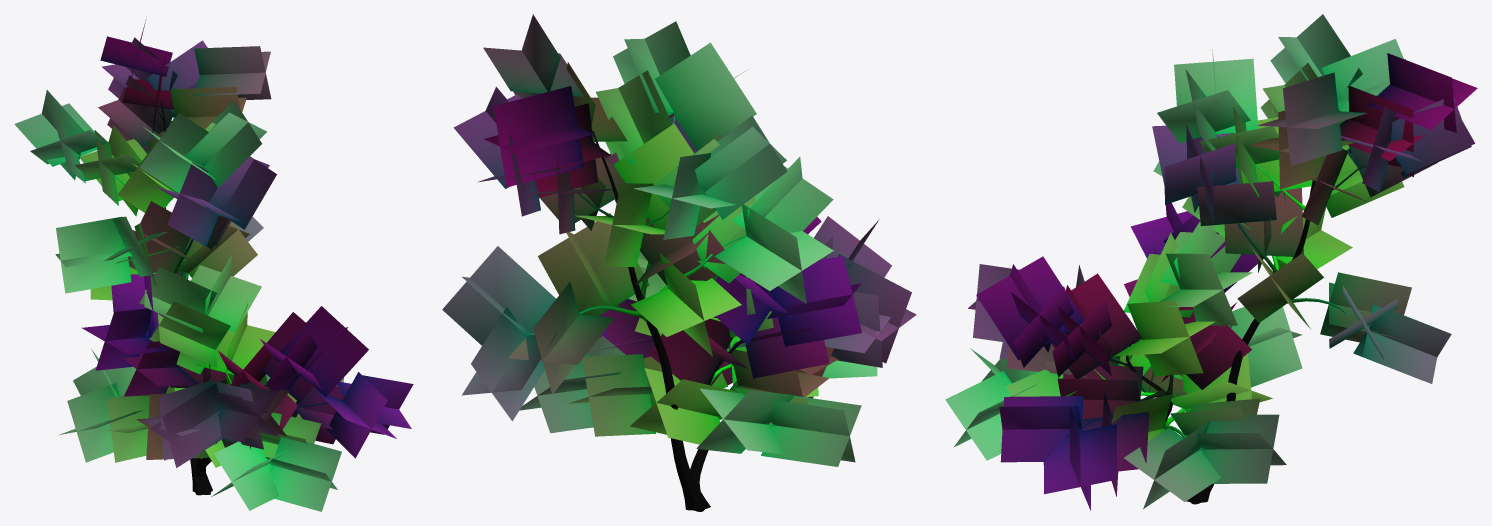
File: M_P3_Tree_5.fbx
3 views of the same model, side by side, from view 1: azimuth 30°, elevation 25°; view 2: azimuth 150°, elevation 25°; view 3: azimuth 270°, elevation 25° (orthographic). The views are drawn at different scales.
Visible parts, largest first — view 1: Tree_5; view 2: Tree_5; view 3: Tree_5.
Boxes of the visible parts, left/top/right/bottom form: Tree_5: left=14, top=19, right=413, bottom=511; Tree_5: left=442, top=14, right=916, bottom=511; Tree_5: left=945, top=14, right=1477, bottom=510.
Size of the model in its own units: 547 by 724 by 752.
